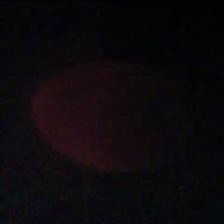fertile: (28, 58, 194, 172)
